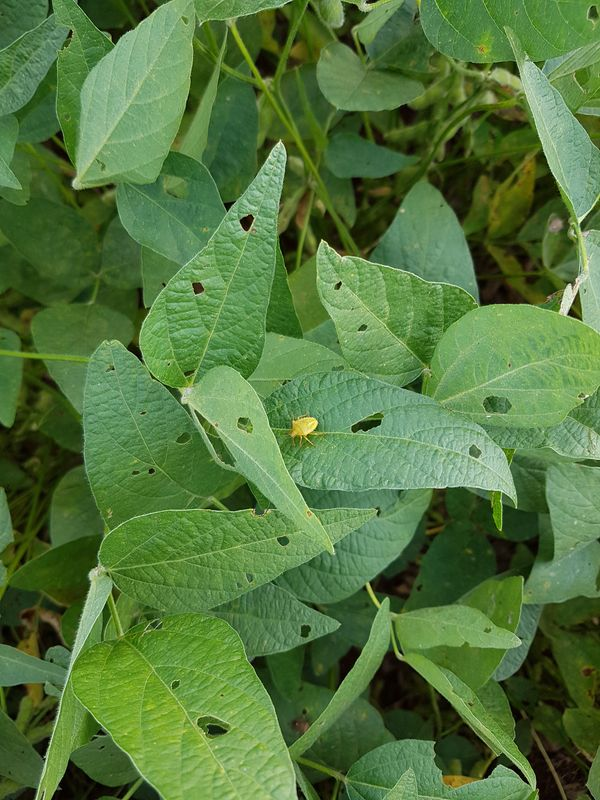Euschistus_heros_adulto: (285, 715, 314, 739)
Euschistus_heros_ninfa: (280, 410, 324, 452)
